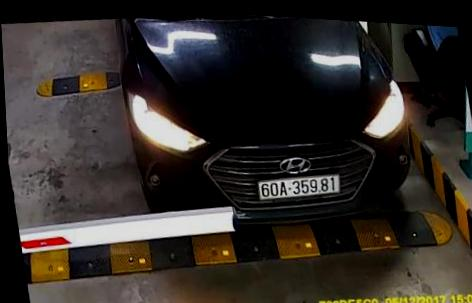License_Plate: (254, 171, 348, 203)
